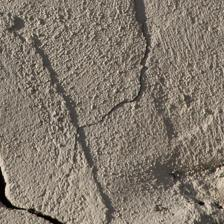Crack: (14, 32, 149, 86), (35, 0, 119, 86)
